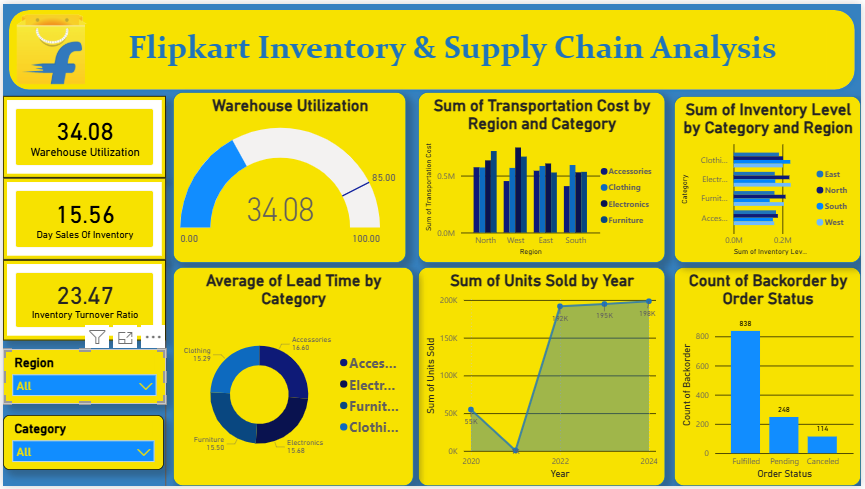

What the dashboard file says about the page in this screenshot:
{"tool":"powerbi","page":{"name":"Page 1","canvas":[1280,720],"ordinal":0},"visuals":[{"type":"shape","box":[0,0,1280.2,136.8],"z":0},{"type":"image","box":[18.7,14.4,108,105.1],"z":1000},{"type":"textbox","box":[122.4,30.2,1107.4,89.3],"z":2000},{"type":"shape","box":[126.7,152.6,231.8,567.4],"z":3000},{"type":"cardVisual","fields":{"Data":["Inventory Supply Chain Dataset.Warehouse Utilization"]},"box":[0,136.8,243.4,122.4],"z":4000},{"type":"cardVisual","fields":{"Data":["Inventory Supply Chain Dataset.Day Sales Of Inventory"]},"box":[0,259.2,243.4,122.4],"z":5000},{"type":"cardVisual","fields":{"Data":["Inventory Supply Chain Dataset.Inventory Turnover Ratio"]},"box":[0,381.6,243.4,119.5],"z":6000},{"type":"slicer","fields":{"Values":["Inventory Supply Chain Dataset.Region"]},"box":[0,515.5,243.4,82.1],"z":7000},{"type":"slicer","fields":{"Values":["Inventory Supply Chain Dataset.Category"]},"box":[0,613.4,240.5,82.1],"z":8000},{"type":"gauge","fields":{"Y":["Inventory Supply Chain Dataset.Warehouse Utilization"]},"box":[253.4,131,348.5,254.9],"z":9000},{"type":"clusteredColumnChart","fields":{"Y":["Sum(Inventory Supply Chain Dataset.Transportation Cost)"],"Category":["Inventory Supply Chain Dataset.Region"],"Series":["Inventory Supply Chain Dataset.Category"]},"box":[619.2,131,368.6,254.9],"z":10000},{"type":"lineChart","fields":{"Y":["Sum(Inventory Supply Chain Dataset.Units Sold)"],"Category":["Inventory Supply Chain Dataset.Date.Variation.Date Hierarchy.Year"]},"box":[619.2,393.1,368.6,326.9],"z":11000},{"type":"donutChart","fields":{"Y":["Avg(Inventory Supply Chain Dataset.Lead Time)"],"Category":["Inventory Supply Chain Dataset.Category"]},"box":[253.4,393.1,358.6,326.9],"z":12000},{"type":"columnChart","fields":{"Y":["CountNonNull(Inventory Supply Chain Dataset.Backorder)"],"Category":["Inventory Supply Chain Dataset.Order Status"]},"box":[1000.8,393.1,279.4,326.9],"z":13000},{"type":"clusteredBarChart","fields":{"Y":["Sum(Inventory Supply Chain Dataset.Inventory Level)"],"Category":["Inventory Supply Chain Dataset.Category"],"Series":["Inventory Supply Chain Dataset.Region"]},"box":[1000.8,136.8,279.4,249.1],"z":14000}]}

Visuals, with their boxes in screenshot pixels (x1, y1, x2, y2), scaled from the page's 1280x720 canvas onto the 865x489 screenshot:
shape: x1=0, y1=0, x2=864, y2=93
image: x1=13, y1=10, x2=86, y2=81
textbox: x1=83, y1=21, x2=831, y2=81
shape: x1=86, y1=104, x2=242, y2=488
cardVisual - Inventory Supply Chain Dataset.Warehouse Utilization: x1=0, y1=93, x2=164, y2=176
cardVisual - Inventory Supply Chain Dataset.Day Sales Of Inventory: x1=0, y1=176, x2=164, y2=259
cardVisual - Inventory Supply Chain Dataset.Inventory Turnover Ratio: x1=0, y1=259, x2=164, y2=340
slicer - Inventory Supply Chain Dataset.Region: x1=0, y1=350, x2=164, y2=406
slicer - Inventory Supply Chain Dataset.Category: x1=0, y1=417, x2=163, y2=472
gauge - Inventory Supply Chain Dataset.Warehouse Utilization: x1=171, y1=89, x2=407, y2=262
clusteredColumnChart - Sum(Inventory Supply Chain Dataset.Transportation Cost) x Inventory Supply Chain Dataset.Region: x1=418, y1=89, x2=668, y2=262
lineChart - Sum(Inventory Supply Chain Dataset.Units Sold) x Inventory Supply Chain Dataset.Date.Variation.Date Hierarchy.Year: x1=418, y1=267, x2=668, y2=488
donutChart - Avg(Inventory Supply Chain Dataset.Lead Time) x Inventory Supply Chain Dataset.Category: x1=171, y1=267, x2=414, y2=488
columnChart - CountNonNull(Inventory Supply Chain Dataset.Backorder) x Inventory Supply Chain Dataset.Order Status: x1=676, y1=267, x2=864, y2=488
clusteredBarChart - Sum(Inventory Supply Chain Dataset.Inventory Level) x Inventory Supply Chain Dataset.Category: x1=676, y1=93, x2=864, y2=262
